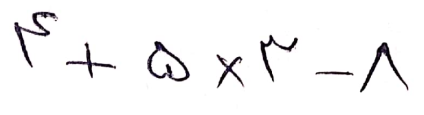character: (13, 10, 61, 73), (358, 40, 410, 95), (146, 40, 191, 84), (259, 34, 299, 83), (65, 42, 117, 79), (214, 53, 246, 89), (313, 68, 356, 79)
